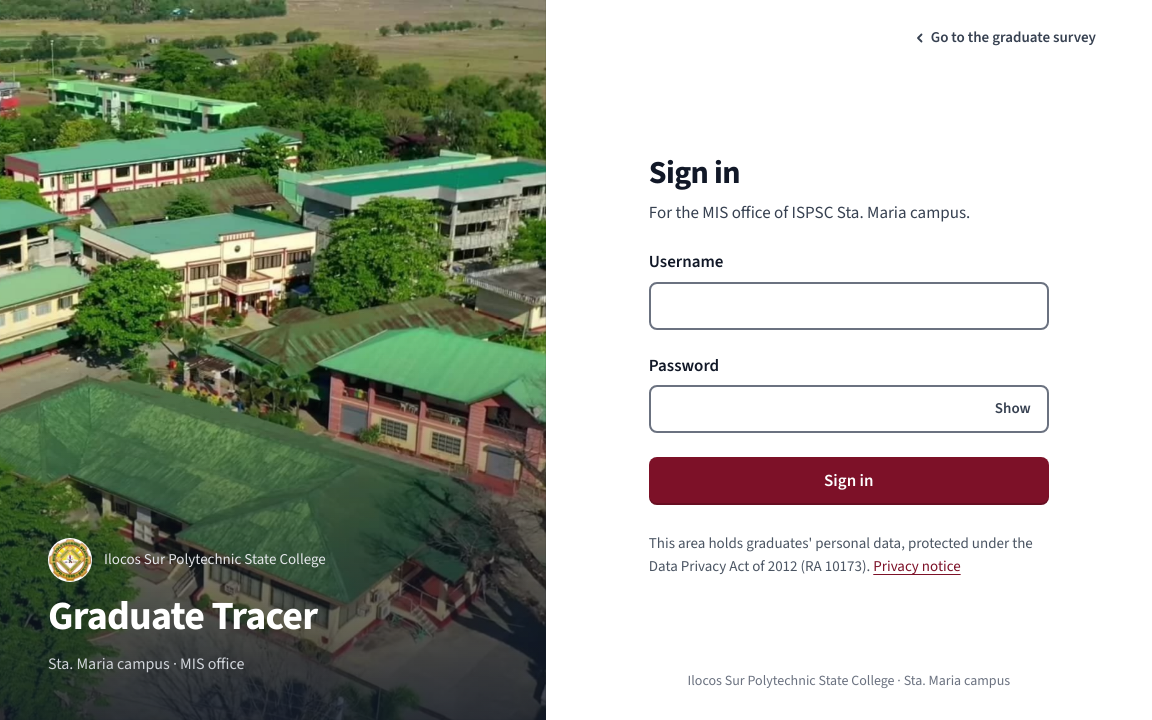
Test case: Admin login page › shows and hides the password from the button inside the field
Later steps or results of the test are not shown.
Click the button with aria-label "Show password" at (1013, 409), box [983,391,1043,427]
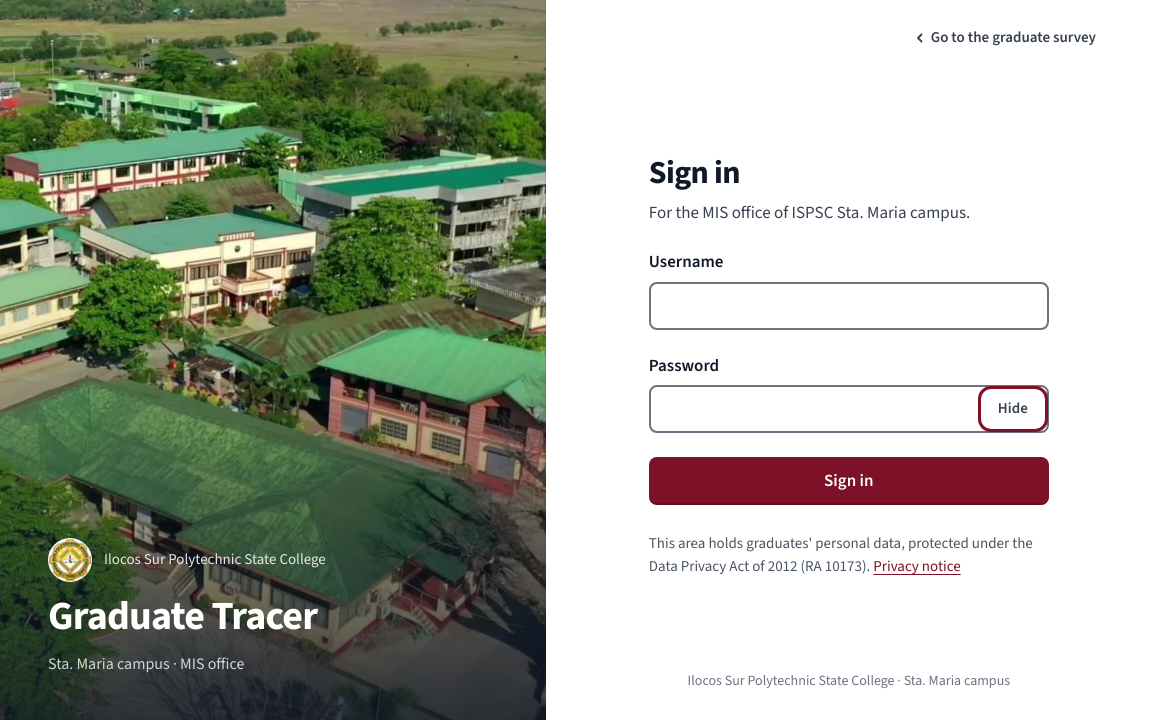
expect the button with aria-label "Hide password" is pressed: met, box [983,391,1043,427]
